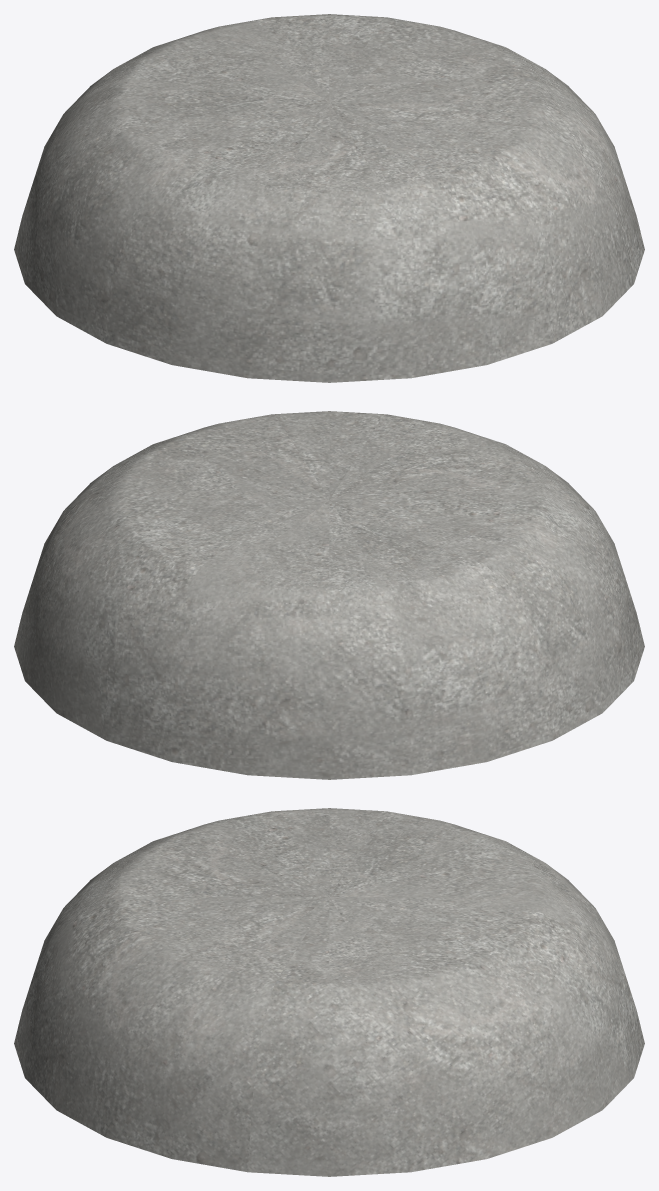
The model's file is SM_SJJ_HG_FoundationStone01A.fbx.
3 renders of one model, top to bottom at view 1: azimuth 30°, elevation 25°; view 2: azimuth 150°, elevation 25°; view 3: azimuth 270°, elevation 25°, orthographic.
Parts seen in each view (by area): view 1: SM_SJJ_HG_FoundationStone01A; view 2: SM_SJJ_HG_FoundationStone01A; view 3: SM_SJJ_HG_FoundationStone01A.
Boxes of the visible parts, x1,y1,x2,y2 form: SM_SJJ_HG_FoundationStone01A: (14,14,644,382); SM_SJJ_HG_FoundationStone01A: (14,411,644,779); SM_SJJ_HG_FoundationStone01A: (14,808,644,1176).
Bounding box in the file's own units: 83.18 × 83.18 × 21.3.
1 material, 1 textured.
